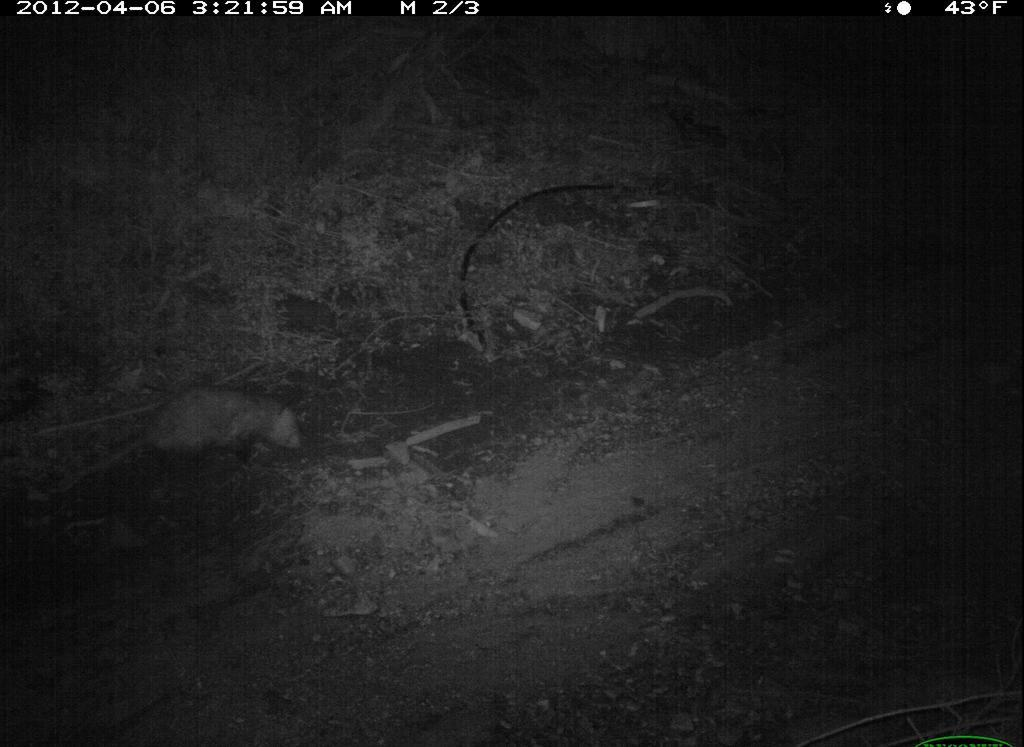opossum: (89, 385, 306, 486)
